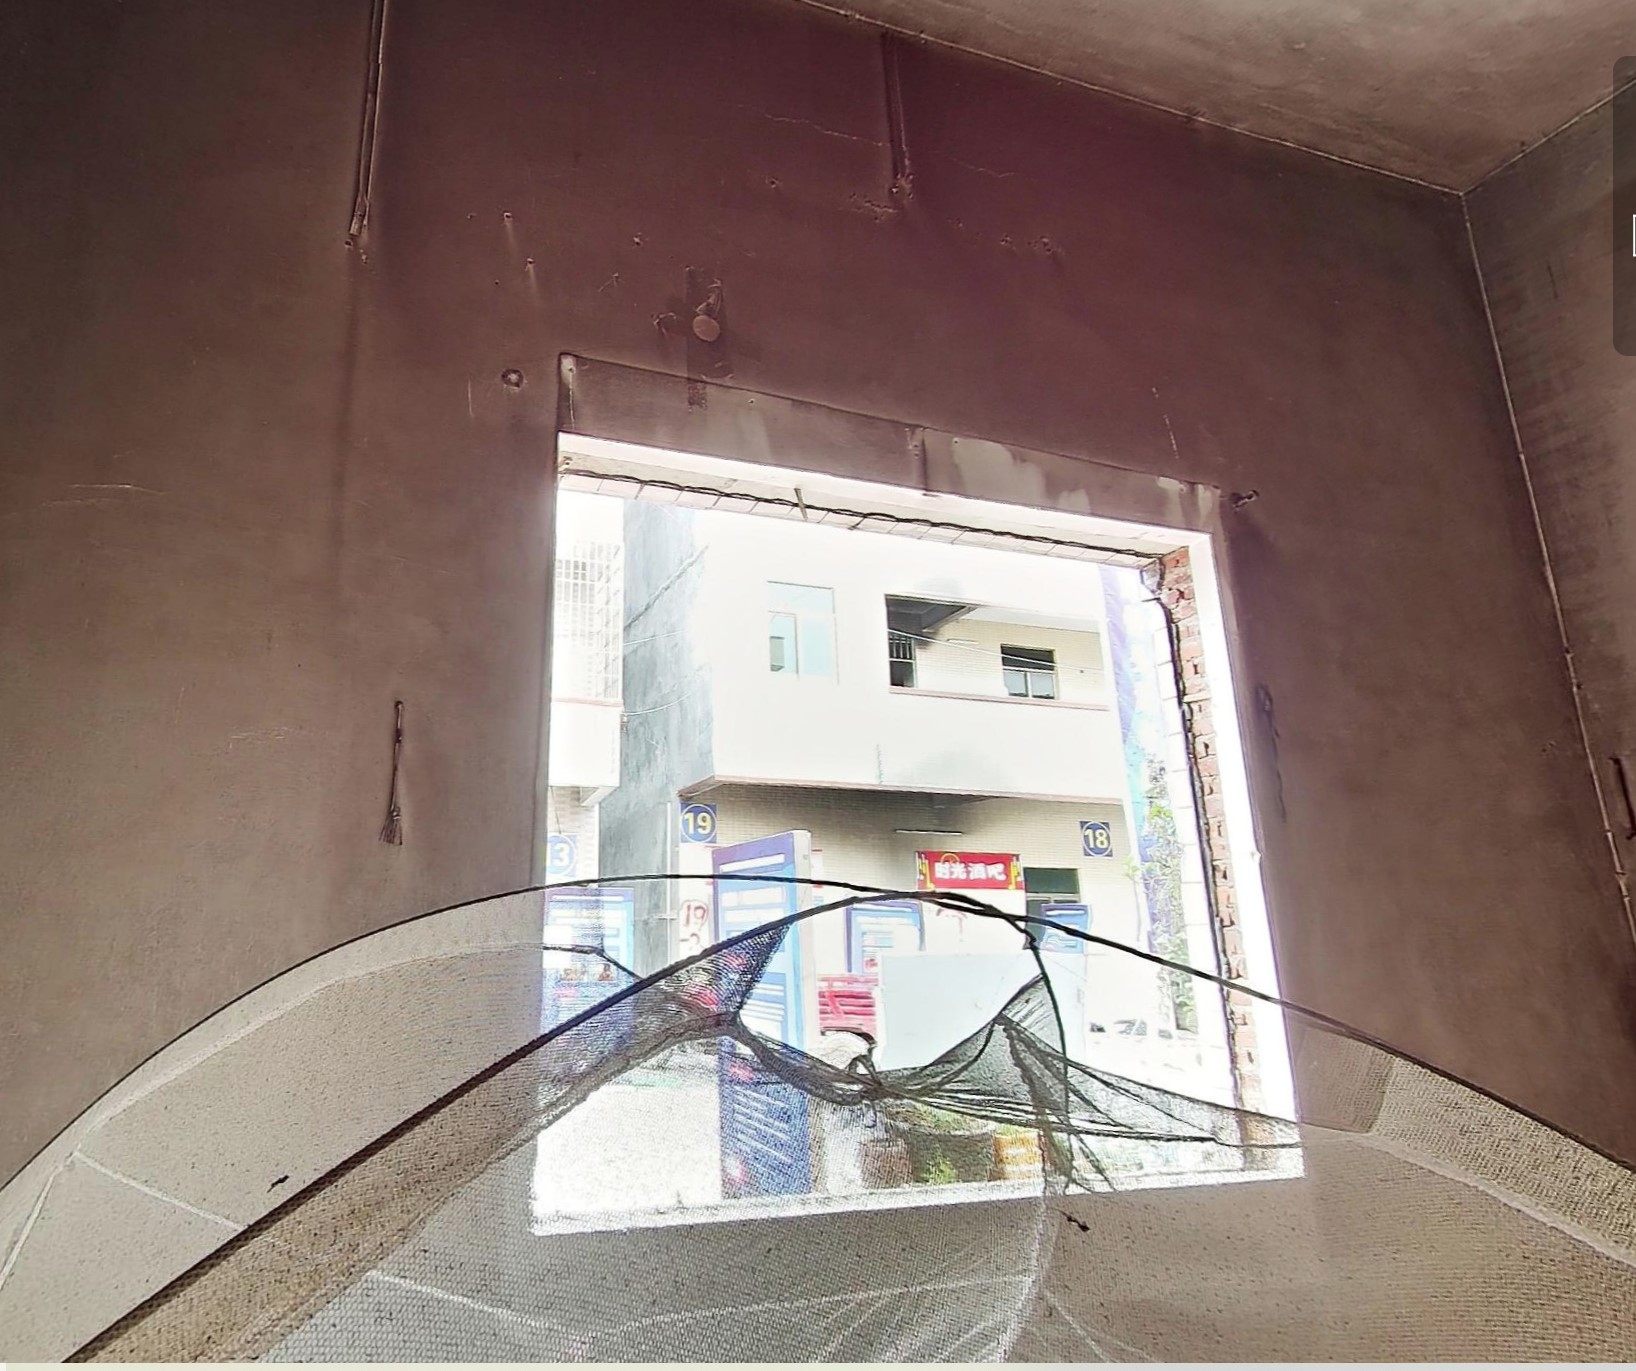Damage_level1: (397, 5, 1514, 452), (5, 14, 354, 639), (1254, 492, 1624, 1032), (49, 710, 509, 938)
